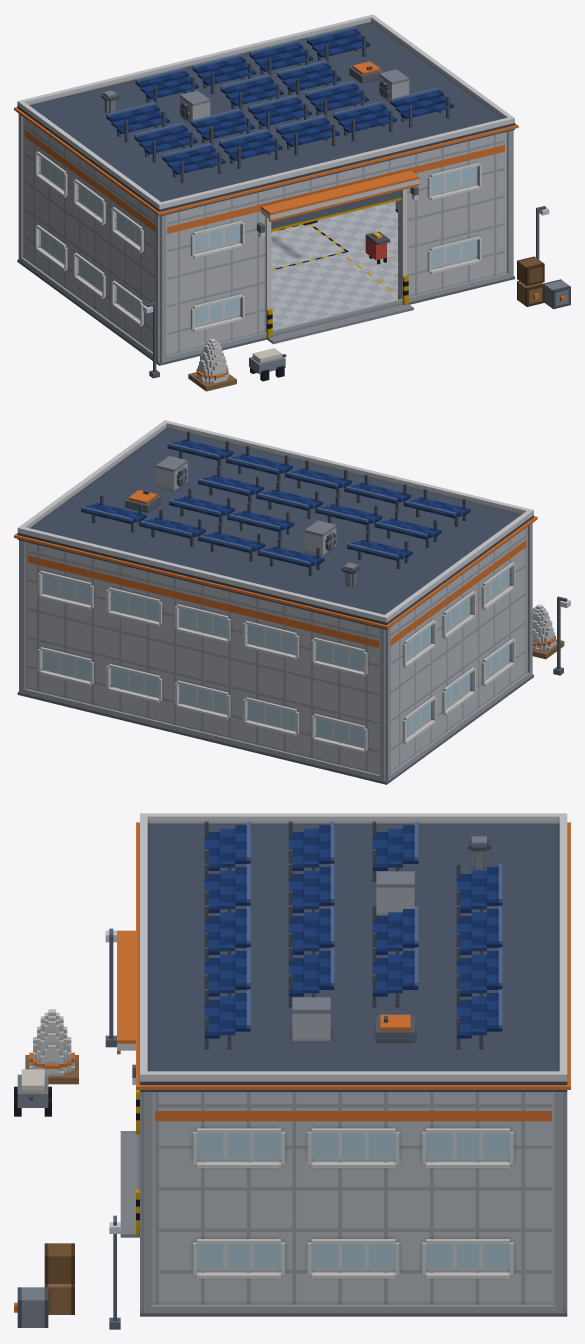
Rendered from workshop_e3_l1.glb.
3 renders of one model, top to bottom at view 1: azimuth 30°, elevation 25°; view 2: azimuth 150°, elevation 25°; view 3: azimuth 270°, elevation 25°, orthographic. The views are drawn at different scales.
Parts seen in each view (by area): view 1: CutRoof, CutPZ, Base, CutNX, CutNZ; view 2: CutRoof, CutNZ, CutNX, Base, CutPZ; view 3: CutRoof, CutPX, Base, CutPZ, CutNZ.
Boxes of the visible parts, x1=… form: CutRoof: x1=14, y1=14, x2=518, y2=216; CutPZ: x1=155, y1=130, x2=513, y2=342; Base: x1=17, y1=201, x2=570, y2=391; CutNX: x1=24, y1=118, x2=155, y2=335; CutNZ: x1=18, y1=114, x2=24, y2=241; CutRoof: x1=14, y1=420, x2=537, y2=629; CutNZ: x1=19, y1=540, x2=390, y2=760; CutNX: x1=390, y1=528, x2=526, y2=755; Base: x1=17, y1=596, x2=570, y2=784; CutPZ: x1=526, y1=523, x2=532, y2=655; CutRoof: x1=136, y1=813, x2=570, y2=1091; CutPX: x1=155, y1=1092, x2=551, y2=1280; Base: x1=14, y1=928, x2=567, y2=1329; CutPZ: x1=117, y1=930, x2=154, y2=1281; CutNZ: x1=552, y1=1092, x2=567, y2=1281.
Size of the model in its own units: 18.4 by 7.7 by 14.6.
